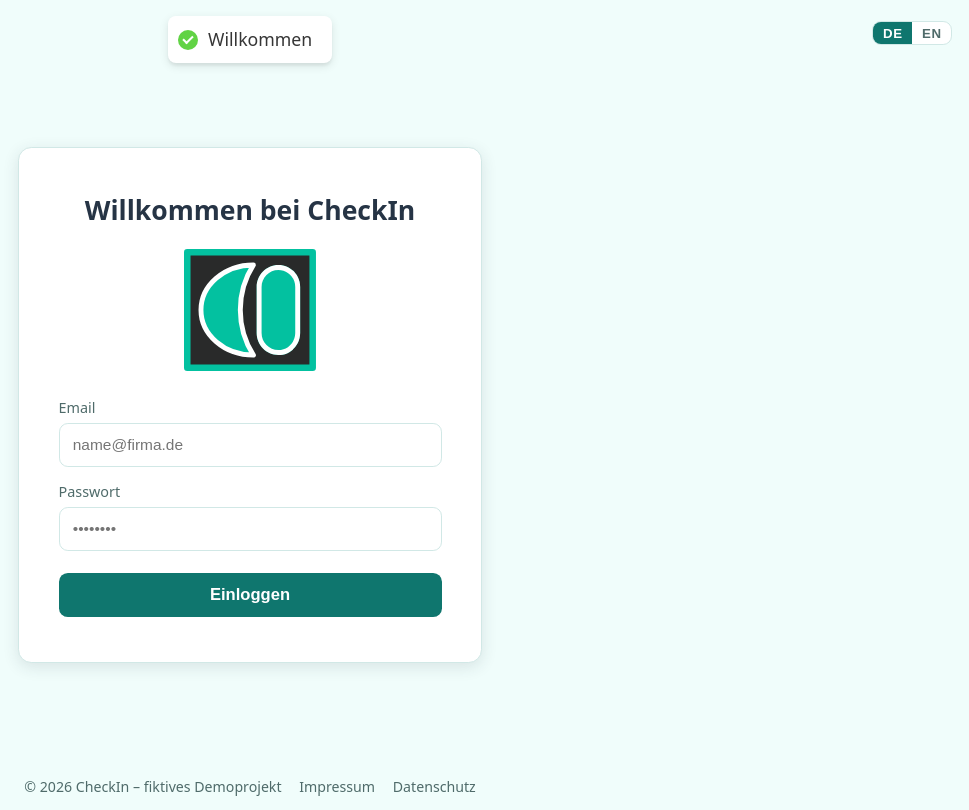
Test: Login › stays on the login page with wrong credentials
Type "x@y.de" into the field labelled "Email" at (250, 445), box [58,423,442,467]
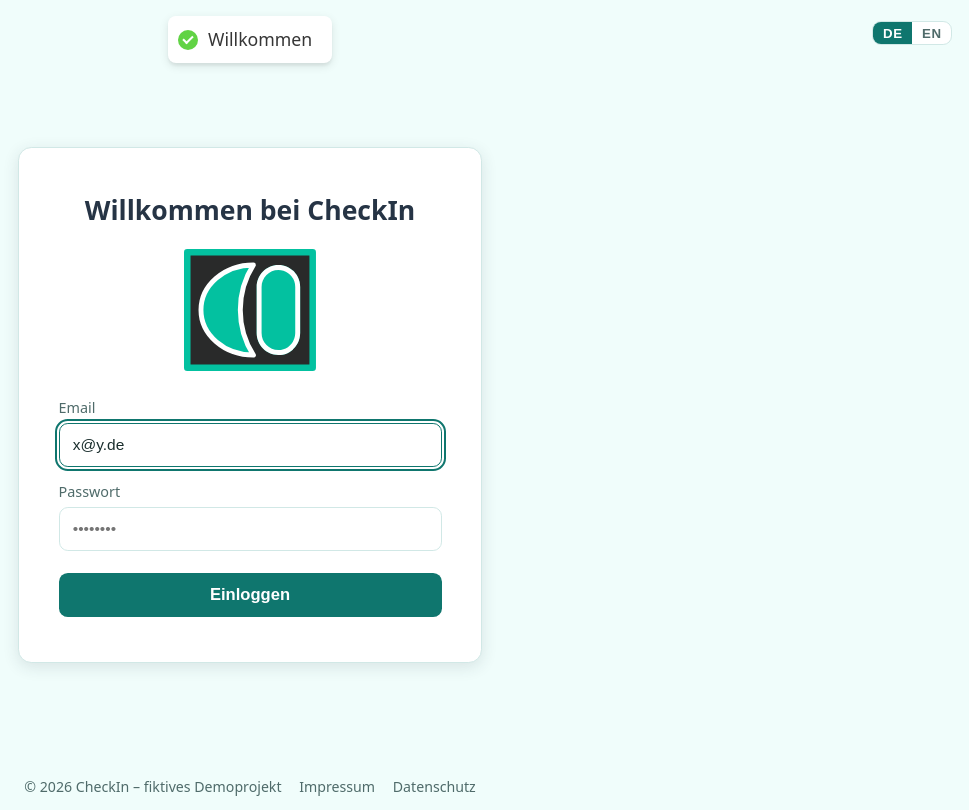
Type "Falsch123!" into the password field labelled "Passwort" at (250, 529), box [58,507,442,551]
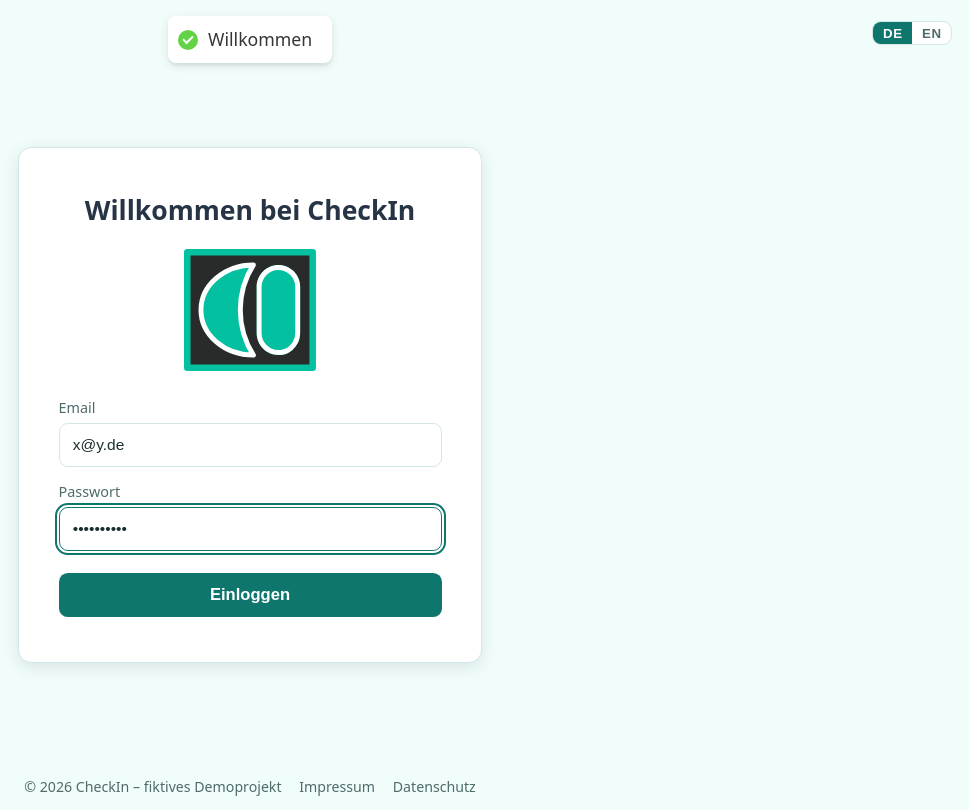
Click the button "Einloggen" at (250, 595), box [58,573,442,617]
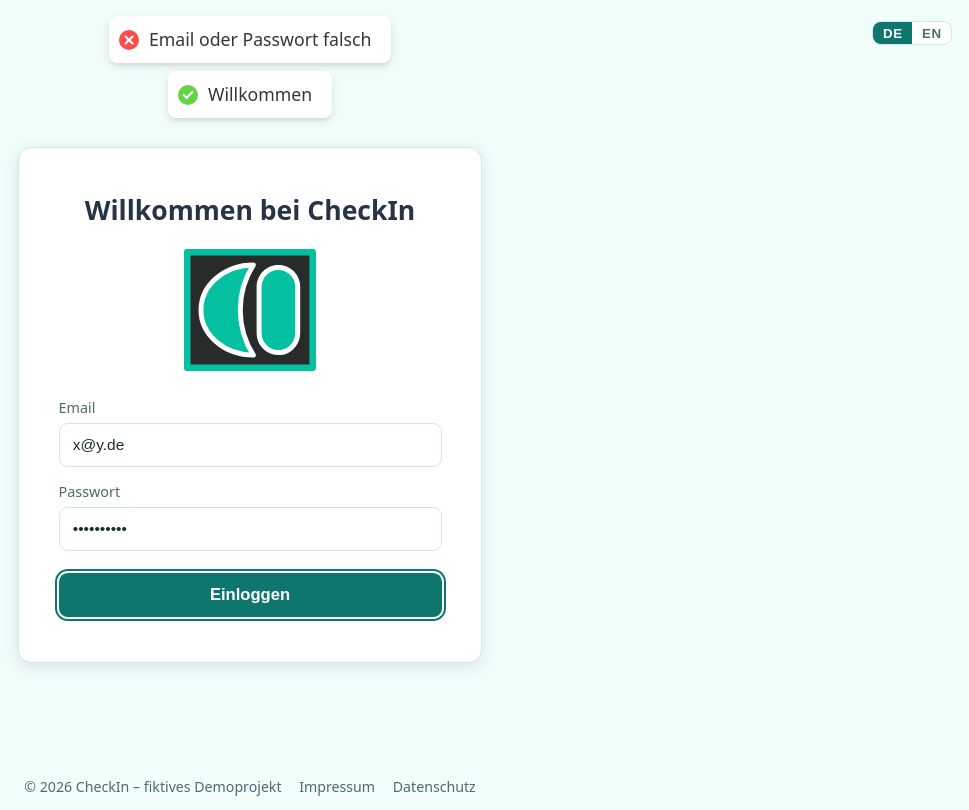
Expected: the text "Email oder Passwort falsch" is shown, [149,28,371,51]
